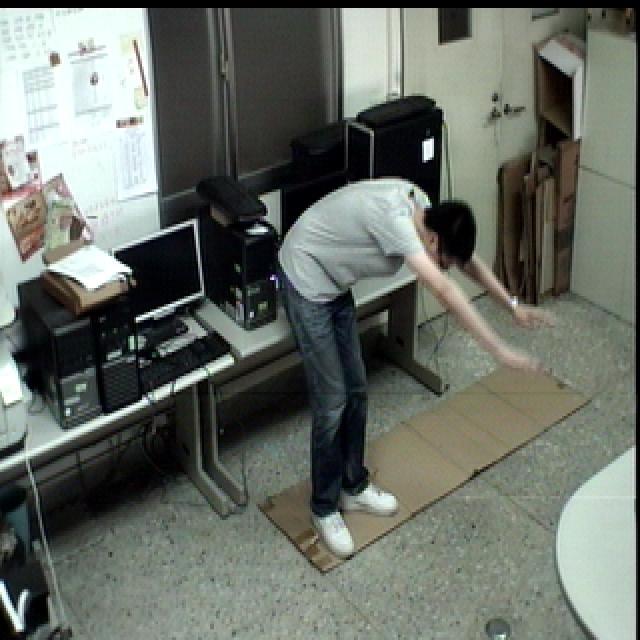bend: (269, 174, 567, 568)
